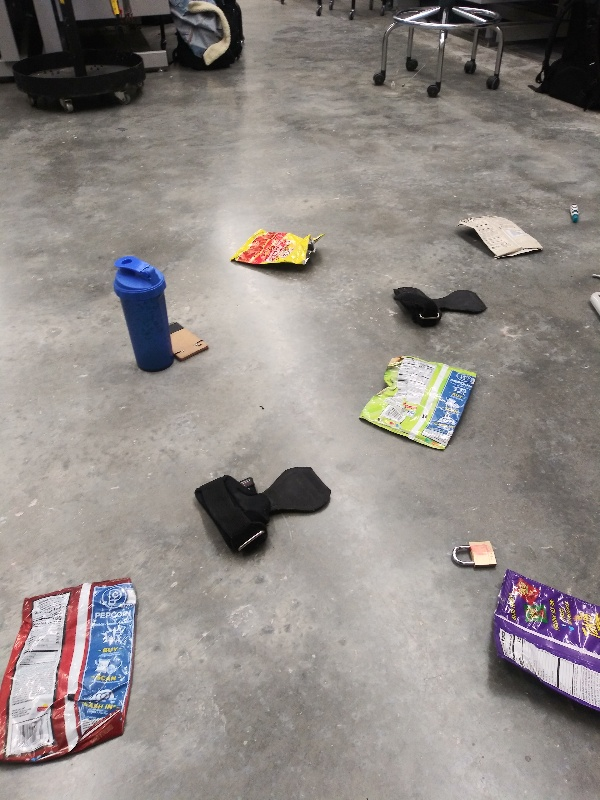bag: (1, 572, 142, 770), (488, 567, 600, 717), (356, 353, 484, 455), (223, 225, 330, 272), (453, 212, 549, 263)
